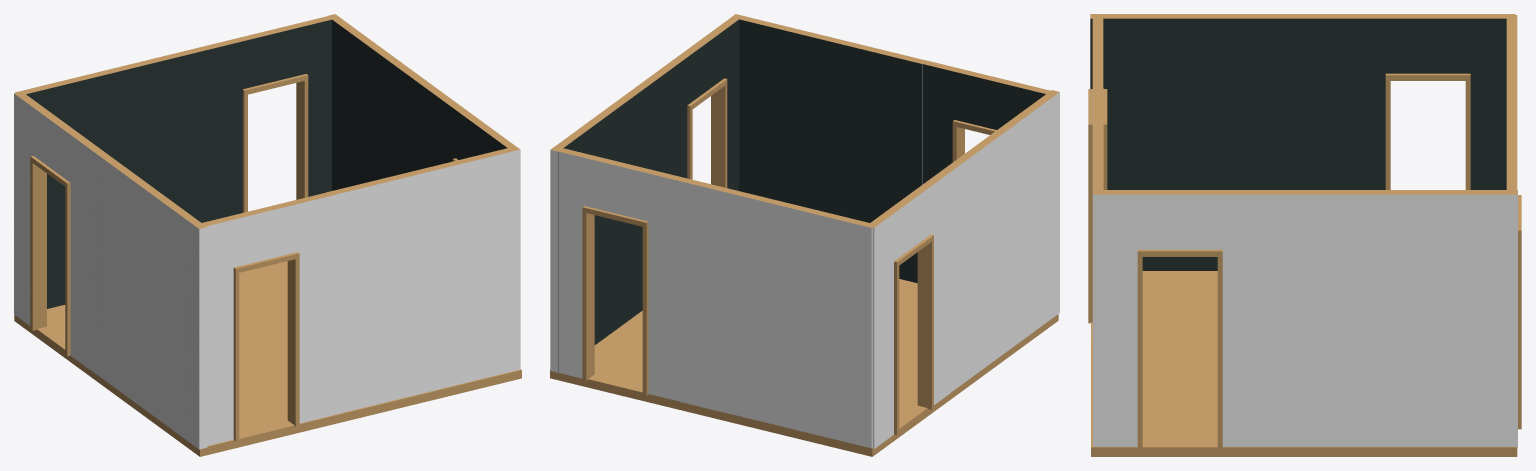
File: room1.fbx
The picture shows the model from 3 angles, left to right: view 1: azimuth 30°, elevation 25°; view 2: azimuth 150°, elevation 25°; view 3: azimuth 270°, elevation 25°; orthographic projection. The views are drawn at different scales.
Parts seen in each view (by area): view 1: wall__1_, wall_2, doorway__1_, wall, doorway, doorway_2, wall_1, floorFull, doorway_1; view 2: wall, wall__1_, wall_2, doorway, doorway_2, wall_1, floorFull, doorway_1, doorway__1_; view 3: wall_1, wall_2, doorway_1, doorway_2, floorFull, doorway, wall__1_, doorway__1_, wall.
Boxes of the visible parts, bbox=[...] form: wall__1_: bbox=[326, 148, 520, 415]; wall_2: bbox=[89, 147, 207, 449]; doorway__1_: bbox=[195, 192, 331, 445]; wall: bbox=[15, 46, 210, 308]; doorway: bbox=[204, 14, 339, 220]; doorway_2: bbox=[14, 91, 97, 369]; wall_1: bbox=[328, 14, 443, 190]; floorFull: bbox=[14, 261, 521, 456]; doorway_1: bbox=[436, 94, 519, 165]; wall: bbox=[680, 178, 872, 448]; wall__1_: bbox=[739, 16, 924, 283]; wall_2: bbox=[943, 90, 1059, 392]; doorway: bbox=[551, 146, 686, 401]; doorway_2: bbox=[866, 170, 950, 448]; wall_1: bbox=[550, 70, 668, 372]; floorFull: bbox=[550, 279, 1058, 456]; doorway_1: bbox=[660, 14, 743, 190]; doorway__1_: bbox=[921, 60, 1056, 184]; wall_1: bbox=[1265, 190, 1517, 447]; wall_2: bbox=[1090, 14, 1342, 270]; doorway_1: bbox=[1093, 190, 1267, 449]; doorway_2: bbox=[1341, 14, 1515, 189]; floorFull: bbox=[1091, 271, 1517, 456]; doorway: bbox=[1506, 121, 1521, 446]; wall__1_: bbox=[1093, 88, 1103, 446]; doorway__1_: bbox=[1088, 15, 1107, 340]; wall: bbox=[1506, 15, 1517, 120].
Size of the model in its own units: 100 by 66.56 by 99.7.
